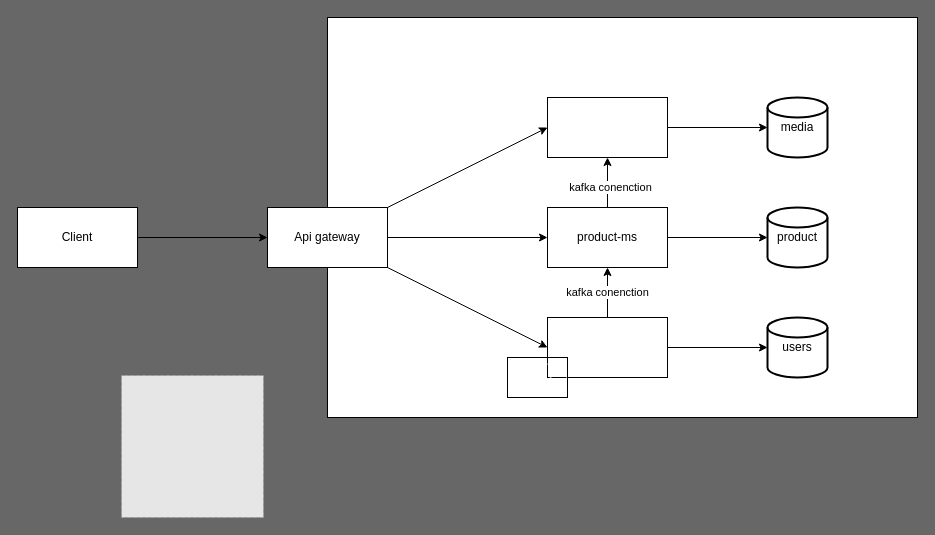
Image size: 935x535. Some labels were removed from this diagram. Grey dashed boxes stand in for pictures. Here are the shapes that lost their labels. From the top down, the box of each, then its label:
(546, 96, 668, 158): media-ms
(546, 316, 668, 378): user-ms
(506, 356, 568, 398): JWT
